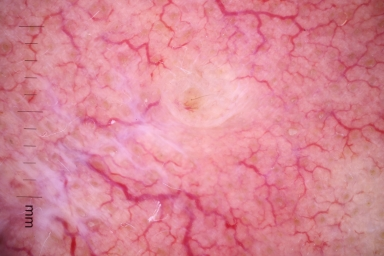nevus: (167, 65, 242, 126)
